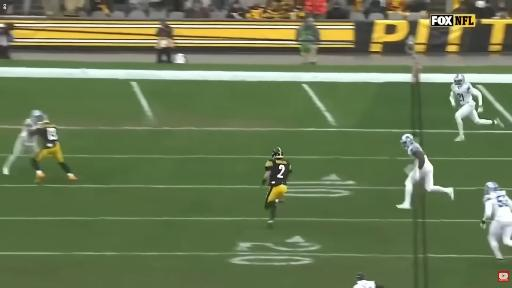Helmet: (484, 179, 499, 197), (453, 72, 466, 87), (402, 134, 415, 149), (31, 110, 42, 125), (271, 147, 283, 159), (42, 116, 51, 125)
Jersey: (484, 191, 511, 221), (265, 159, 291, 186), (33, 122, 58, 148), (407, 143, 431, 167), (451, 83, 474, 105), (20, 119, 37, 145)
Player: (397, 134, 454, 209), (450, 74, 503, 141), (30, 120, 76, 182), (3, 110, 46, 174), (262, 148, 291, 228), (481, 182, 511, 259)
